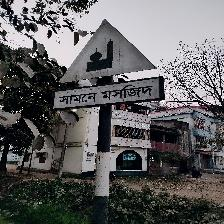Mosque in front: (54, 20, 163, 111)
